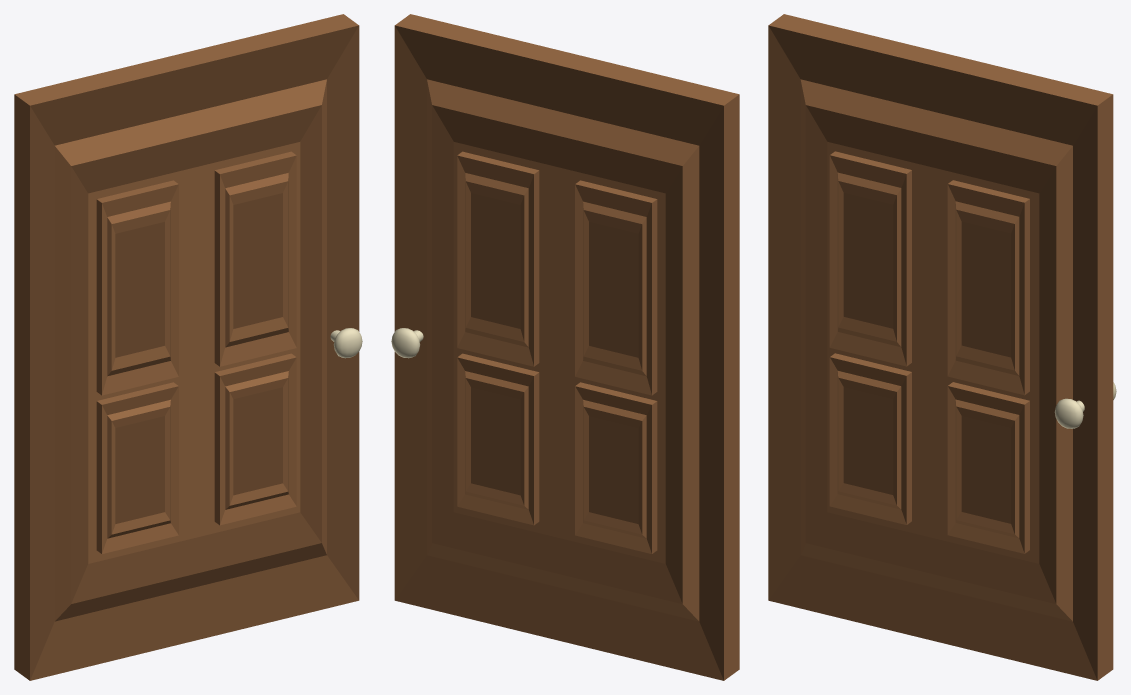
The model's file is DOOR1.fbx.
The picture shows the model from 3 angles, left to right: view 1: azimuth 30°, elevation 25°; view 2: azimuth 150°, elevation 25°; view 3: azimuth 330°, elevation 25°; orthographic projection.
Visible parts, largest first — view 1: DOOR; view 2: DOOR; view 3: DOOR.
Boxes of the visible parts, x1,y1,x2,y2 form: DOOR: (14,14,362,680); DOOR: (391,14,739,680); DOOR: (768,14,1116,680).
Bounding box in the file's own units: 3.05 × 5.1 × 0.6807.
